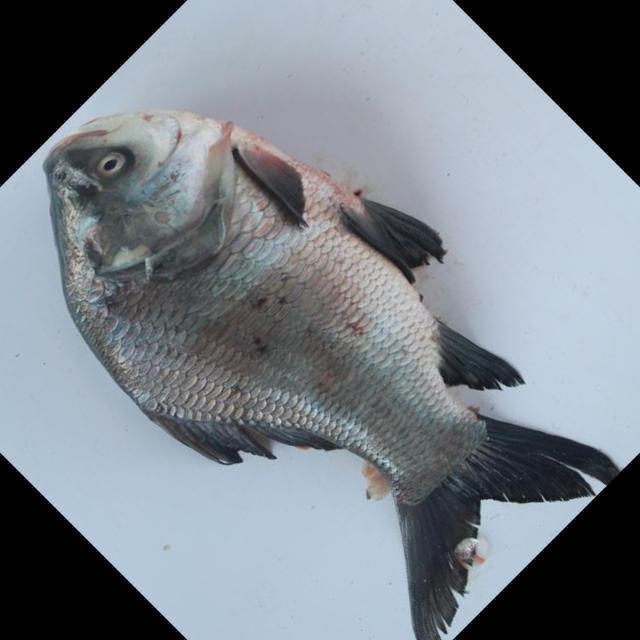Indian Carp: (41, 105, 625, 640)
